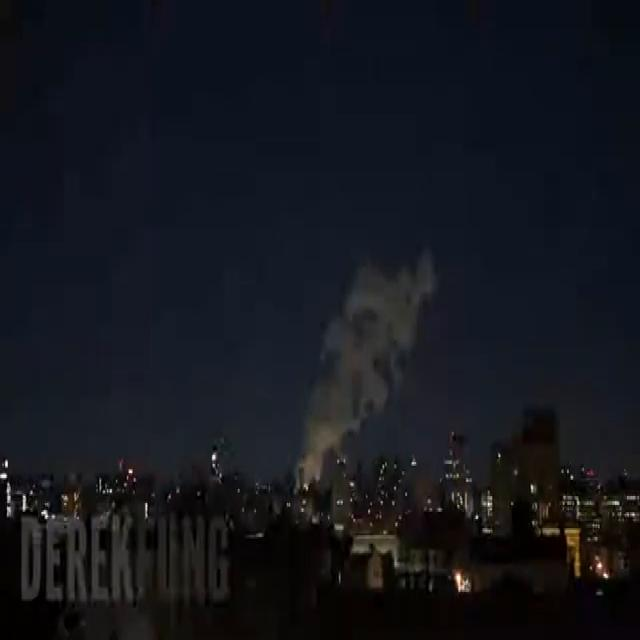smoke: (296, 249, 436, 484)
